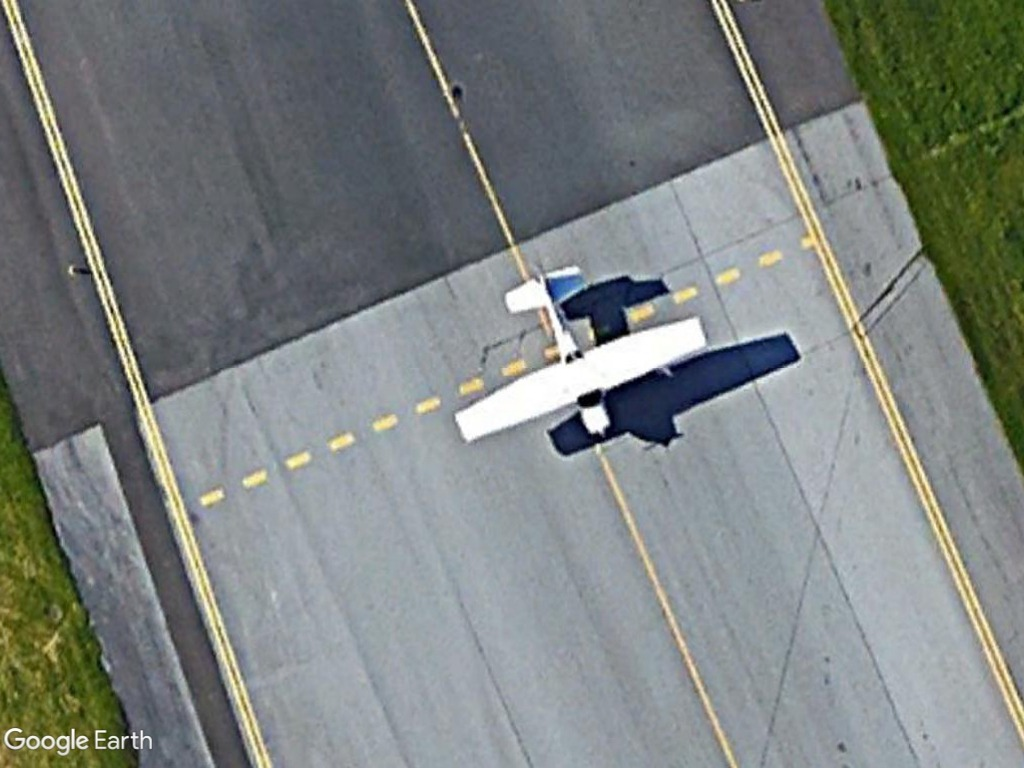trainer: (446, 262, 712, 446)
